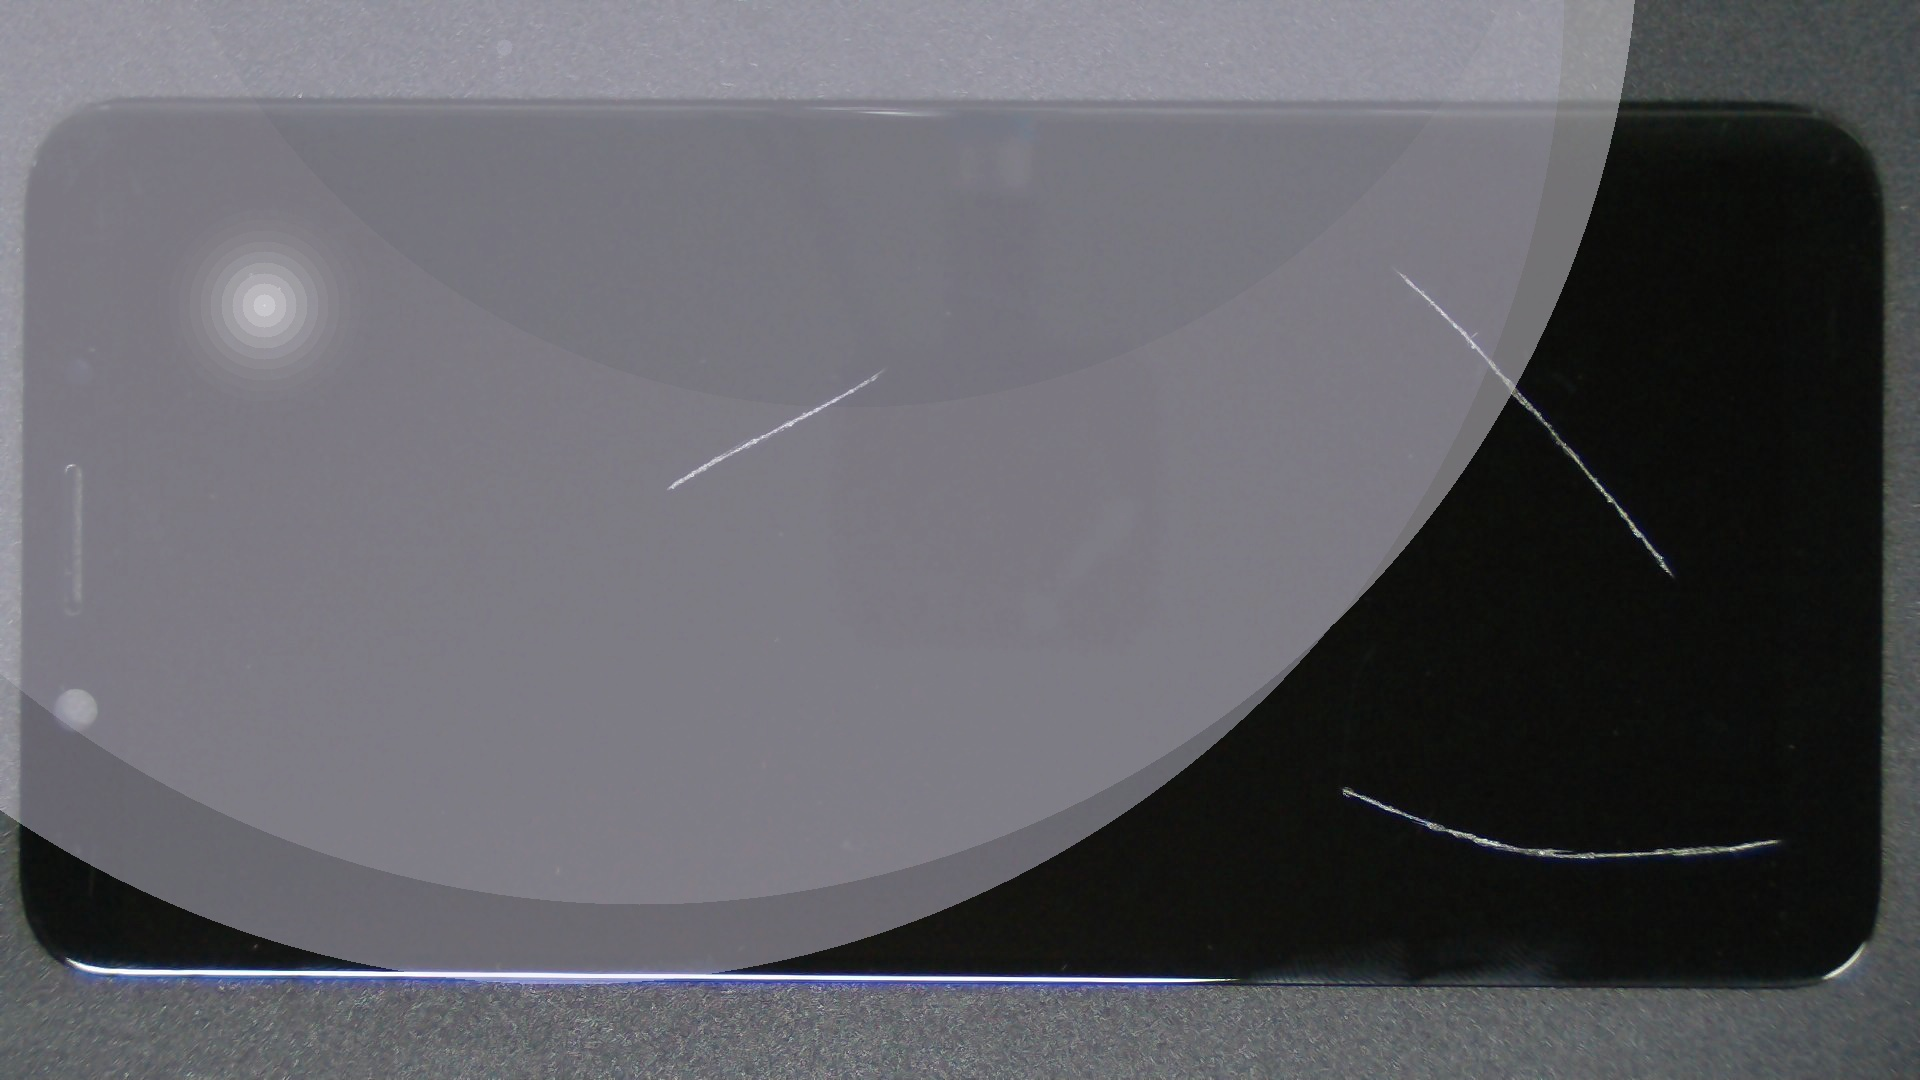oil: (674, 392, 1920, 1080), (700, 136, 1920, 409), (442, 183, 1324, 553)
